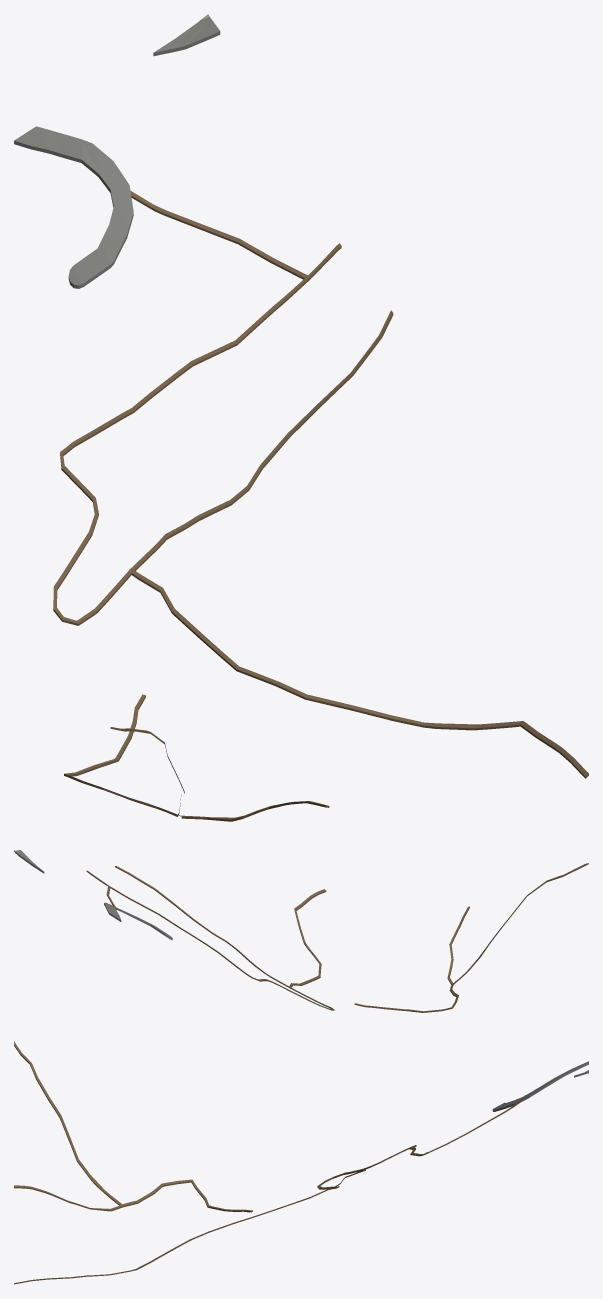
The model's file is 17-109444-59491.1adab310.glb.
3 renders of one model, top to bottom at view 1: azimuth 30°, elevation 25°; view 2: azimuth 150°, elevation 25°; view 3: azimuth 270°, elevation 25°, orthographic. The views are drawn at different scales.
Size of the model in its own units: 203 by 145 by 292.
